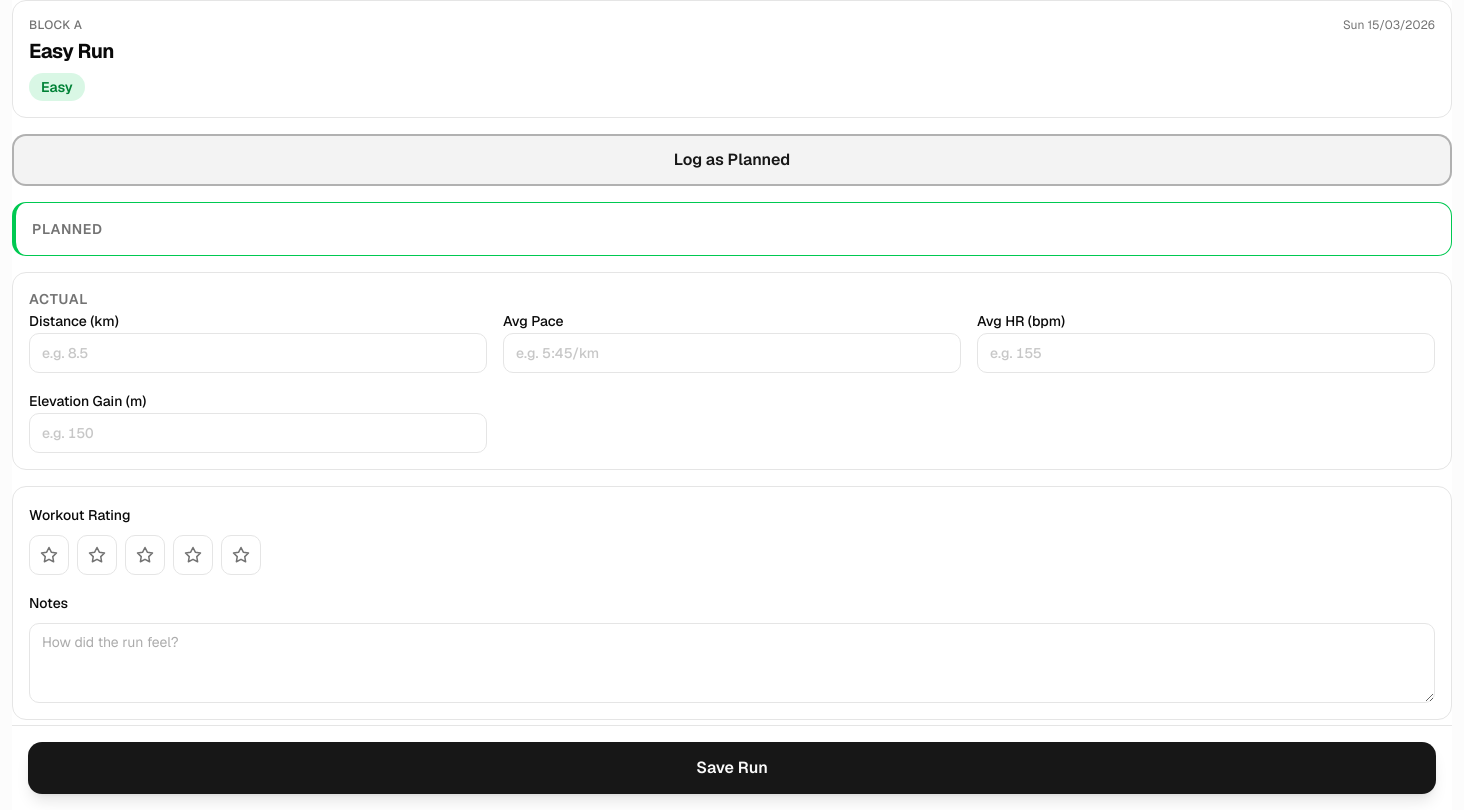
Test: RunningLoggingForm — characterization › sanitizes negative sign from distance input (NumericInput prevents negative values)
Type "-5" into the field with test id "actual-distance" at (258, 353), box [29,333,487,373]
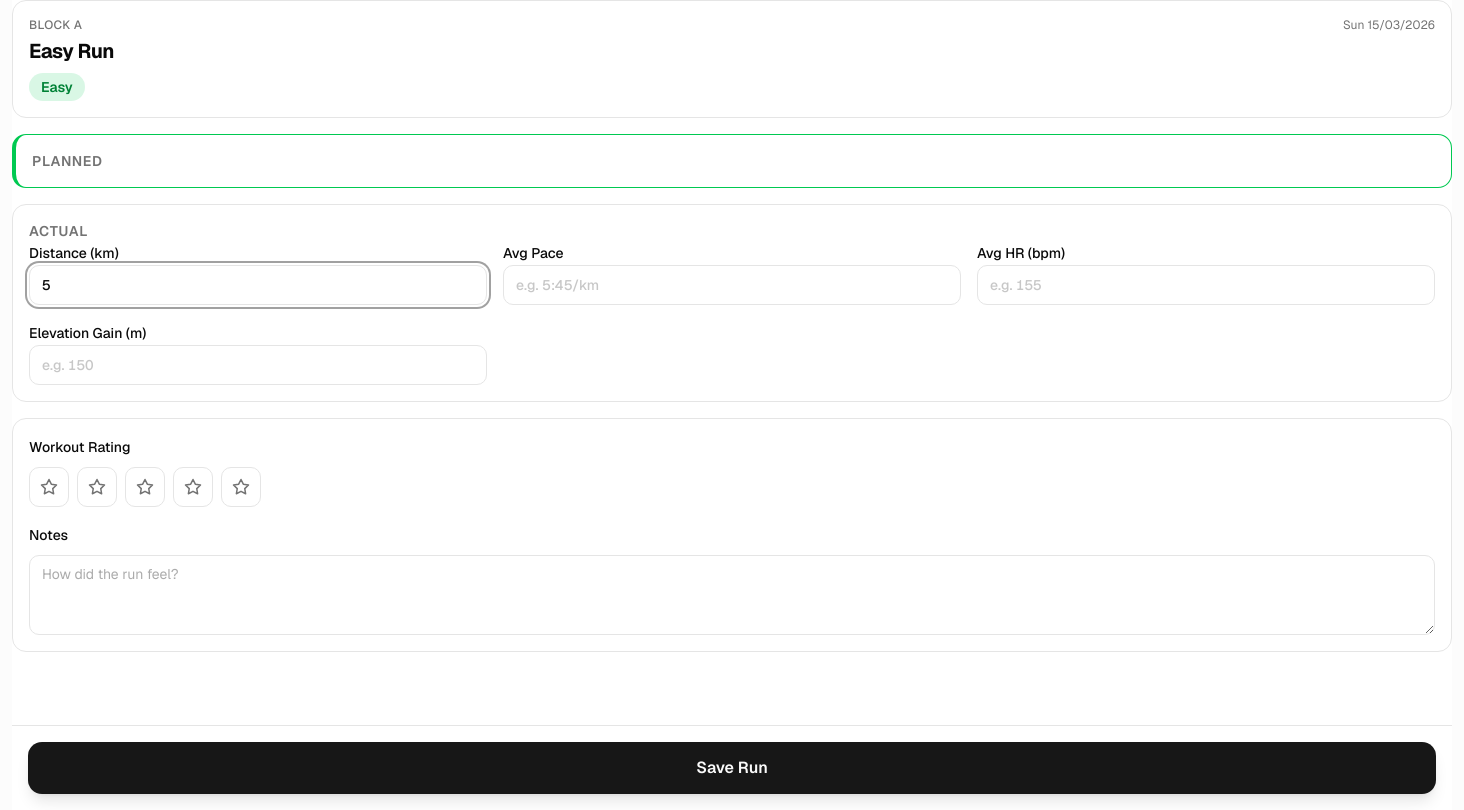
Now the field with test id "actual-distance" holds "5", box [29,265,487,305]
